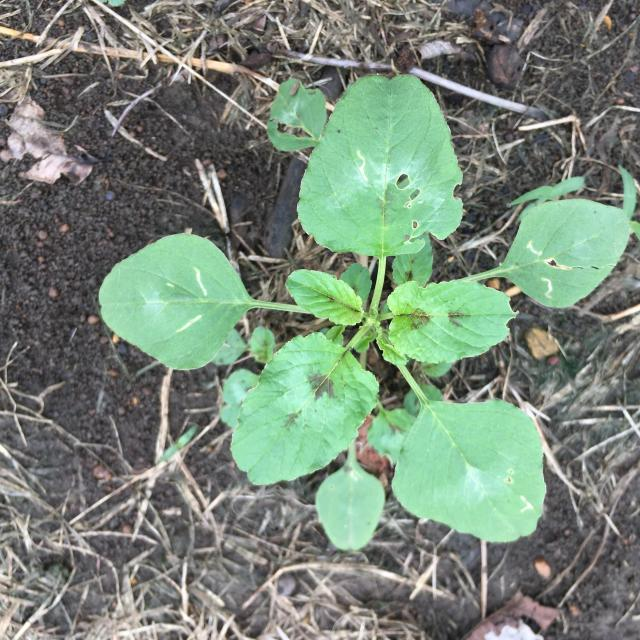PalmerAmaranth: (98, 75, 631, 551)
